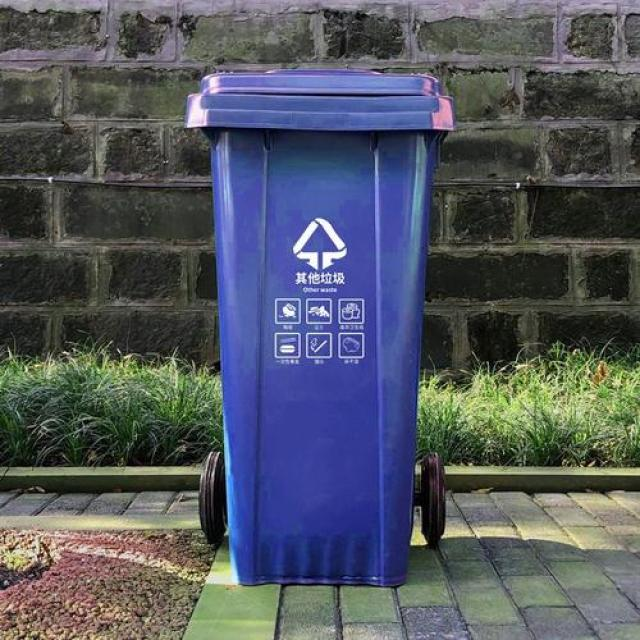garbage_bin: (183, 68, 456, 589)
